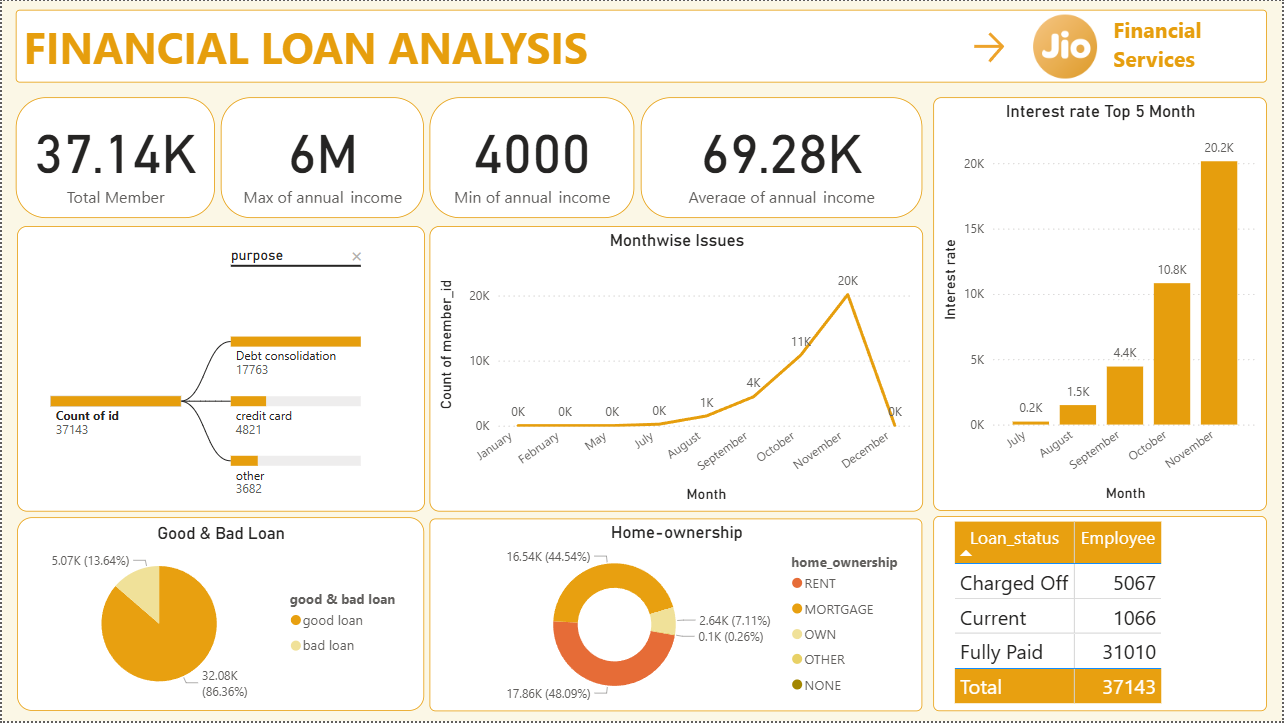

This screenshot's page, from the dashboard's own definition file:
{"tool":"powerbi","page":{"name":"Page 1","canvas":[1280,720],"ordinal":0},"visuals":[{"type":"textbox","box":[14.2,8.9,1251.2,73],"z":0},{"type":"image","box":[1017.1,8.7,90.9,73.6],"z":1000},{"type":"textbox","box":[1106.9,8.7,173.1,69.3],"z":2000},{"type":"card","fields":{"Values":["CountNonNull(financial_loan(1).Index)"]},"box":[14.2,96.1,199.3,121],"z":3000},{"type":"decompositionTreeVisual","fields":{"Analyze":["CountNonNull(financial_loan(1).id)"],"ExplainBy":["financial_loan(1).purpose"]},"box":[14.4,225.1,408.3,285.7],"z":4000},{"type":"lineChart","title":"Monthwise Issues","fields":{"Category":["financial_loan(1).issue_date.Variation.Date Hierarchy.Month"],"Y":["CountNonNull(financial_loan(1).member_id)"]},"box":[427.1,225.1,493.4,285.7],"z":5000},{"type":"card","fields":{"Values":["Max(financial_loan(1).annual_income)"]},"box":[219.3,96.7,203.4,121.2],"z":6000},{"type":"card","fields":{"Values":["Min(financial_loan(1).annual_income)"]},"box":[427.1,96.7,204.9,121.2],"z":7000},{"type":"card","fields":{"Values":["Avg(financial_loan(1).annual_income)"]},"box":[639.1,96.7,281.3,121.2],"z":8000},{"type":"columnChart","title":"Interest rate Top 5 Month","fields":{"Y":["CountNonNull(financial_loan(1).int_rate)"],"Category":["financial_loan(1).issue_date.Variation.Date Hierarchy.Month"]},"box":[931.7,96.7,333.3,413.3],"z":9000},{"type":"pieChart","title":" Good & Bad Loan","fields":{"Y":["CountNonNull(financial_loan(1).id)"],"Category":["financial_loan(1).good & bad loan"]},"box":[14.4,516.5,406.9,193.3],"z":10000},{"type":"donutChart","title":"Home-ownership ","fields":{"Category":["financial_loan(1).home_ownership"],"Y":["CountNonNull(financial_loan(1).id)"]},"box":[427,517,493,193],"z":11000},{"type":"tableEx","fields":{"Values":["financial_loan(1).loan_status","financial_loan(1).id"]},"box":[931.7,515,333.3,195],"z":12000},{"type":"actionButton","box":[966.2,26,100,40.3],"z":12001}]}

Visuals, with their boxes in screenshot pixels (x1, y1, x2, y2), scaled from the page's 1280x720 canvas onto the 1284x723 screenshot:
textbox: x1=14 y1=9 x2=1269 y2=82
image: x1=1020 y1=9 x2=1111 y2=83
textbox: x1=1110 y1=9 x2=1283 y2=78
card - CountNonNull(financial_loan(1).Index): x1=14 y1=97 x2=214 y2=218
decompositionTreeVisual - CountNonNull(financial_loan(1).id) x financial_loan(1).purpose: x1=14 y1=226 x2=424 y2=513
"Monthwise Issues" lineChart: x1=428 y1=226 x2=923 y2=513
card - Max(financial_loan(1).annual_income): x1=220 y1=97 x2=424 y2=219
card - Min(financial_loan(1).annual_income): x1=428 y1=97 x2=634 y2=219
card - Avg(financial_loan(1).annual_income): x1=641 y1=97 x2=923 y2=219
"Interest rate Top 5 Month" columnChart: x1=935 y1=97 x2=1269 y2=512
" Good & Bad Loan" pieChart: x1=14 y1=519 x2=423 y2=713
"Home-ownership " donutChart: x1=428 y1=519 x2=923 y2=713
tableEx - financial_loan(1).loan_status x financial_loan(1).id: x1=935 y1=517 x2=1269 y2=713
actionButton: x1=969 y1=26 x2=1070 y2=67
